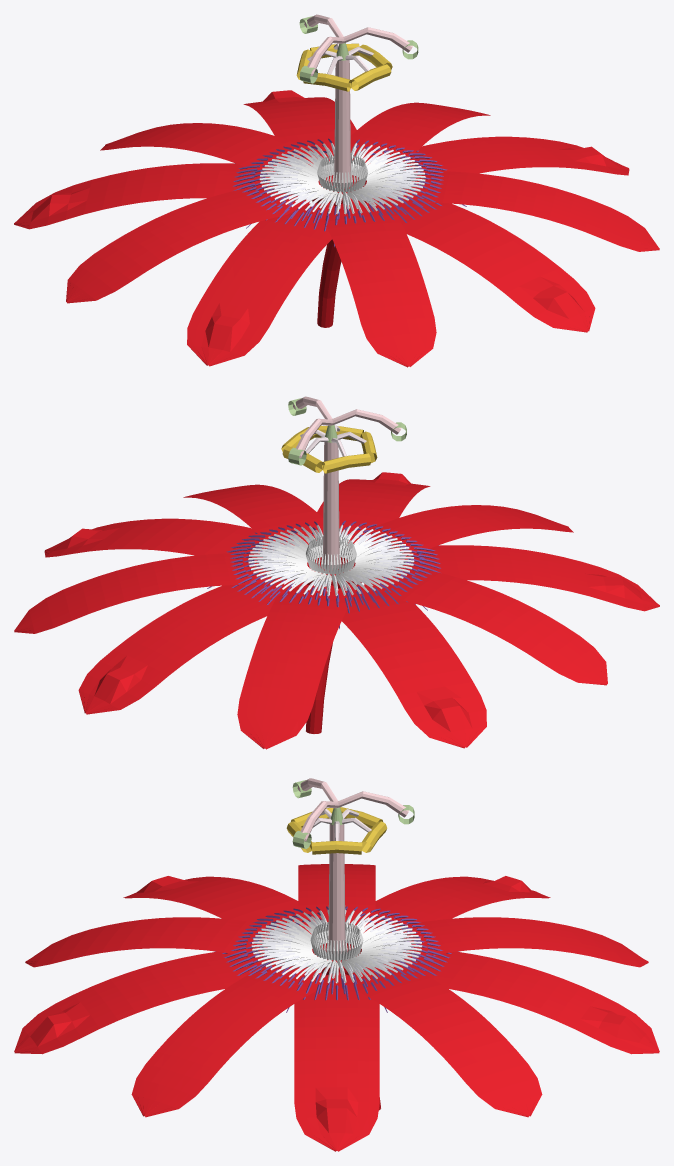
File: passiflora_vitifolia.obj
3 views of the same model, one above another, from view 1: azimuth 30°, elevation 25°; view 2: azimuth 150°, elevation 25°; view 3: azimuth 270°, elevation 25° (orthographic). The views are drawn at different scales.
Bounding box in the file's own units: 148 × 77.83 × 143.
